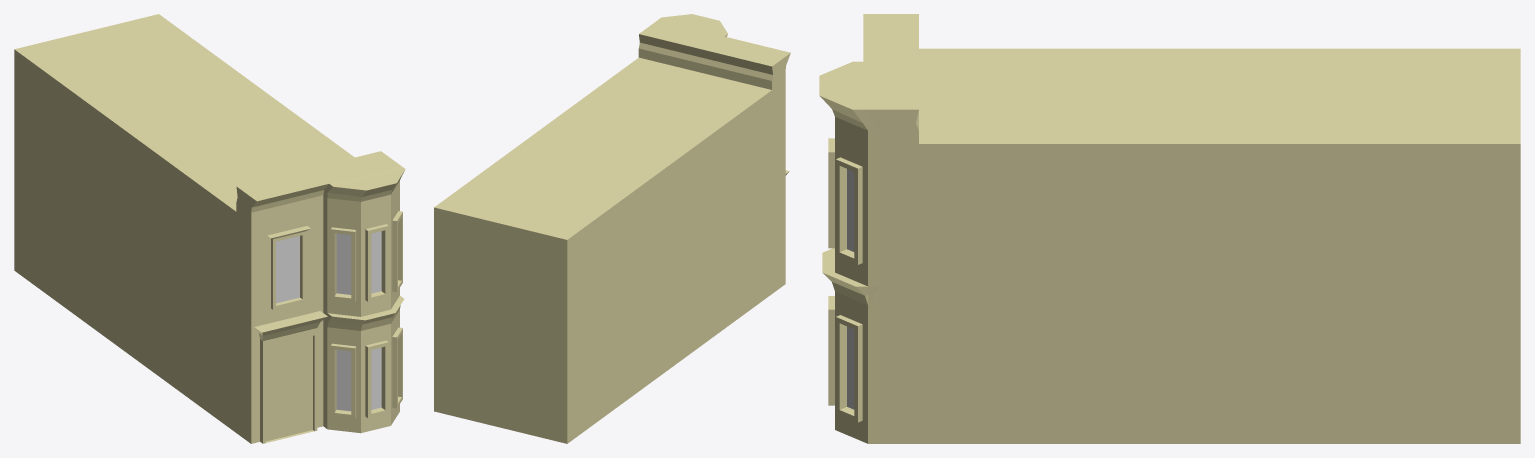
The model's file is SF_house_yellow.fbx.
3 renders of one model, left to right at view 1: azimuth 30°, elevation 25°; view 2: azimuth 150°, elevation 25°; view 3: azimuth 270°, elevation 25°, orthographic. The views are drawn at different scales.
Parts seen in each view (by area): view 1: Cube.011; view 2: Cube.011; view 3: Cube.011.
Part boxes in pixels (x1,y1,x2,y2): Cube.011: (14,14,405,443); Cube.011: (434,14,790,443); Cube.011: (819,14,1520,443).
Bounding box in the file's own units: 297 × 484 × 920.
